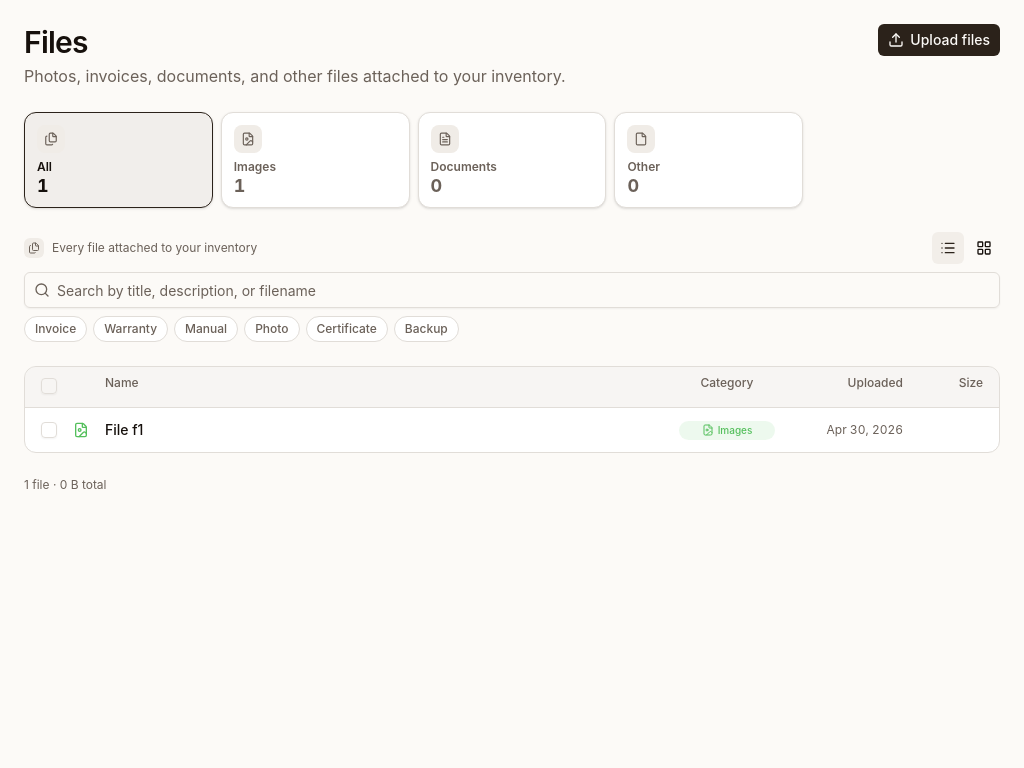
Test case: <FilesListPage /> › re-categorizes selected files via the bulk-move dropdown
Check: the element with test id "file-row-f1" is shown, box 25,408 -> 999,452
Click the checkbox named "select file f1" at [49, 430], box 41,422 -> 57,438
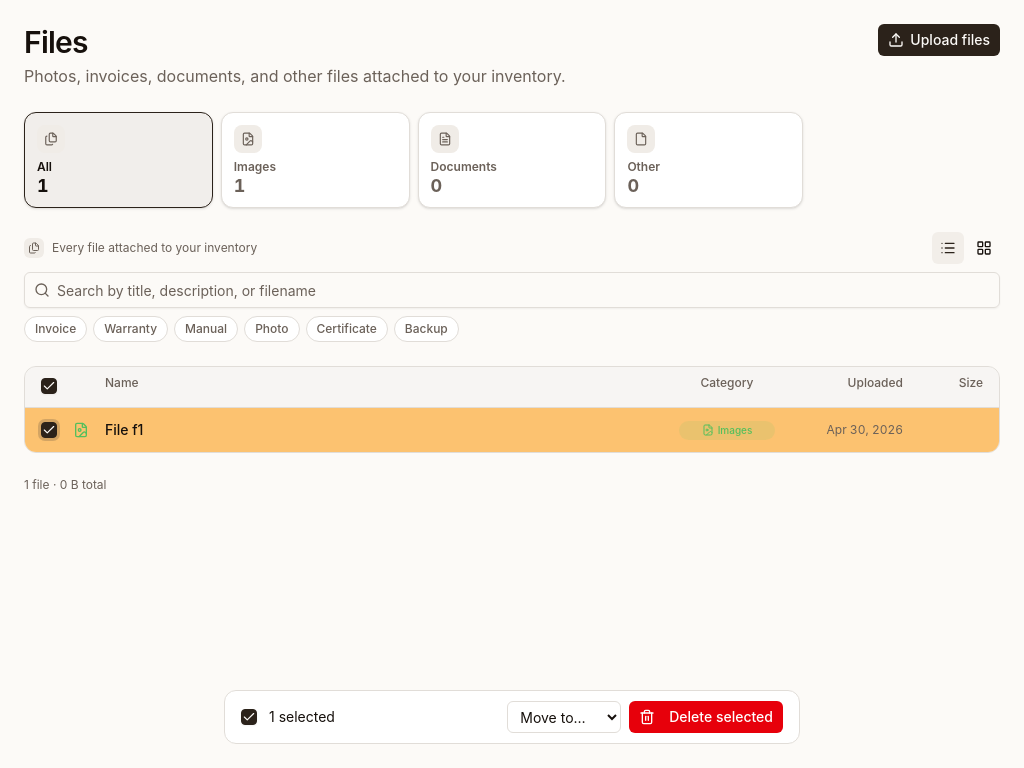
Check: the element with test id "files-bulk-bar" is shown, box 224,690 -> 800,744
Select "Documents" in the dropdown with test id "files-bulk-move" at [564, 717], box 507,701 -> 621,733
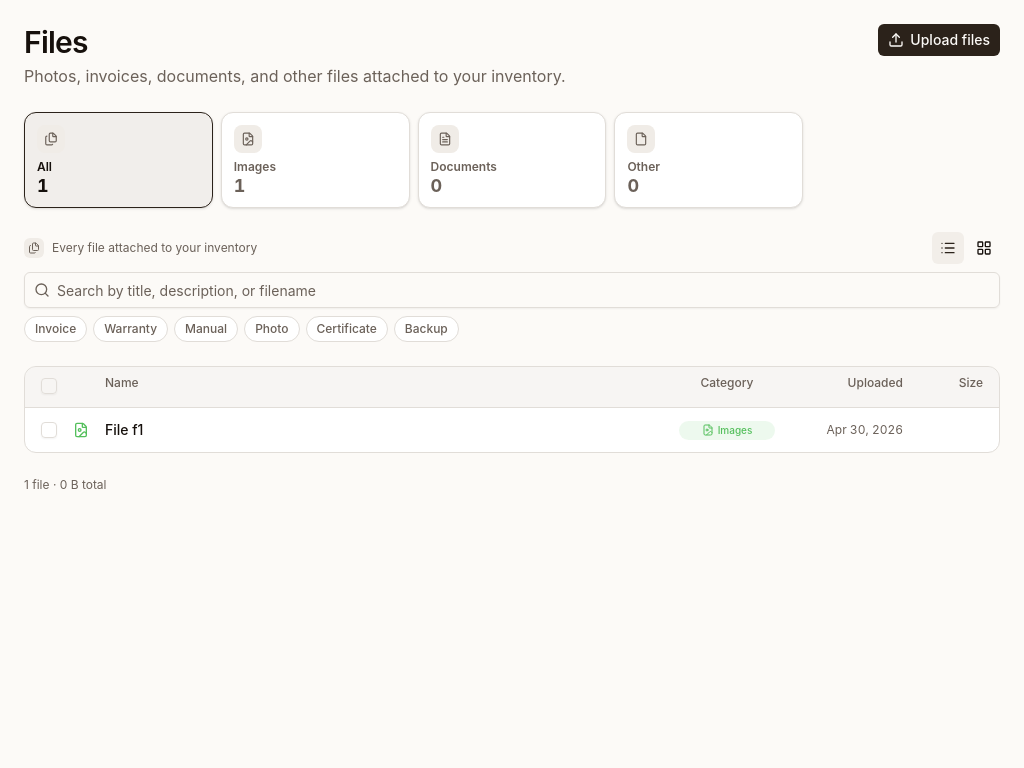
Check: the element with test id "files-bulk-bar" is gone
